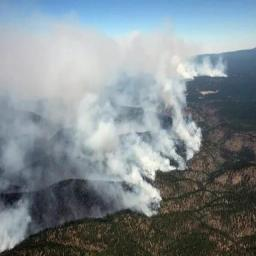Heavy smoke: (0, 17, 218, 222)
